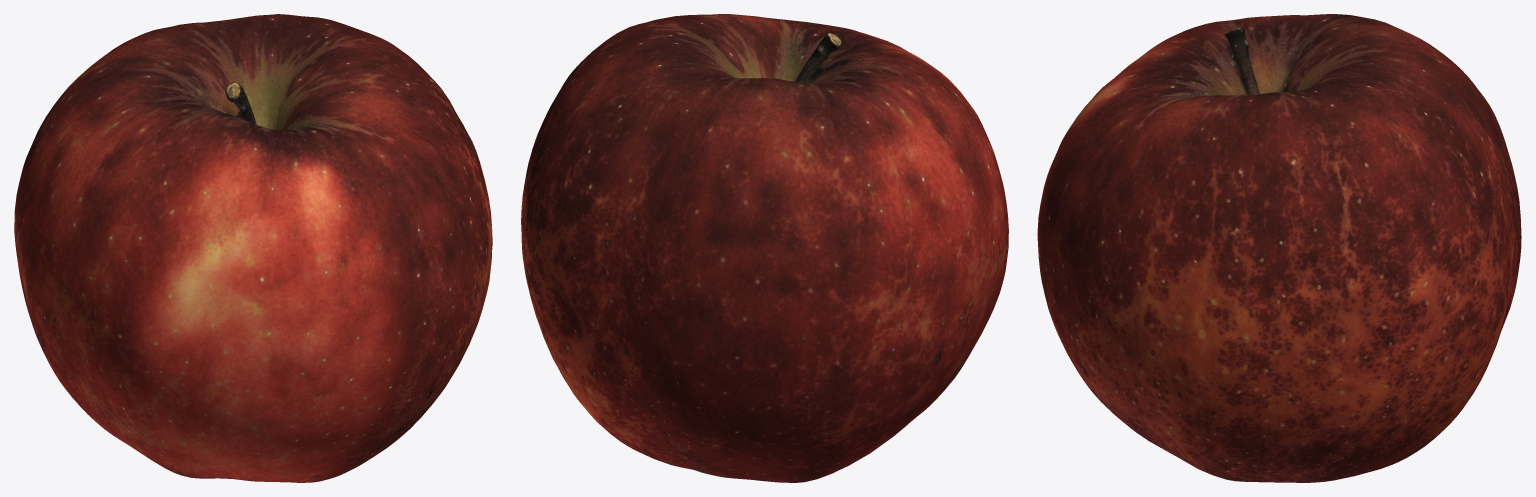
The model's file is beautiful_apple.glb.
3 views of the same model, side by side, from view 1: azimuth 30°, elevation 25°; view 2: azimuth 150°, elevation 25°; view 3: azimuth 270°, elevation 25° (orthographic).
Parts seen in each view (by area): view 1: Object_2; view 2: Object_2; view 3: Object_2.
Part boxes in pixels (<box>): Object_2: <box>14,14,492,482</box>; Object_2: <box>521,14,1008,482</box>; Object_2: <box>1037,14,1521,482</box>.
Size of the model in its own units: 0.0866 by 0.0795 by 0.0884.
Materials: 1 (1 with a texture image).
